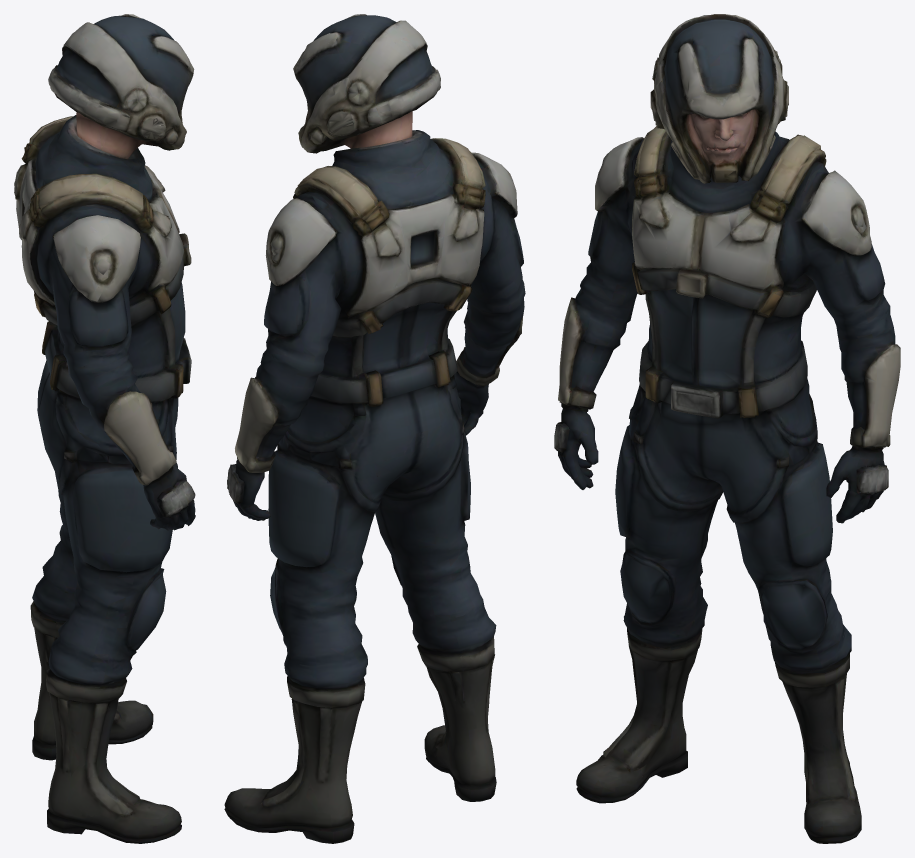
File: michael.glb
3 renders of one model, left to right at view 1: azimuth 30°, elevation 25°; view 2: azimuth 150°, elevation 25°; view 3: azimuth 270°, elevation 25°, orthographic. The views are drawn at different scales.
Visible parts, largest first — view 1: tripo_node_c24d8418-61d3-43bc-b474-2cd5d4fdd49e; view 2: tripo_node_c24d8418-61d3-43bc-b474-2cd5d4fdd49e; view 3: tripo_node_c24d8418-61d3-43bc-b474-2cd5d4fdd49e.
Part boxes in pixels (left/top/right/bottom): tripo_node_c24d8418-61d3-43bc-b474-2cd5d4fdd49e: left=14, top=14, right=195, bottom=843; tripo_node_c24d8418-61d3-43bc-b474-2cd5d4fdd49e: left=224, top=14, right=525, bottom=843; tripo_node_c24d8418-61d3-43bc-b474-2cd5d4fdd49e: left=554, top=14, right=900, bottom=843.
Size of the model in its own units: 0.2564 by 1 by 0.4012.
1 material, 1 textured.
